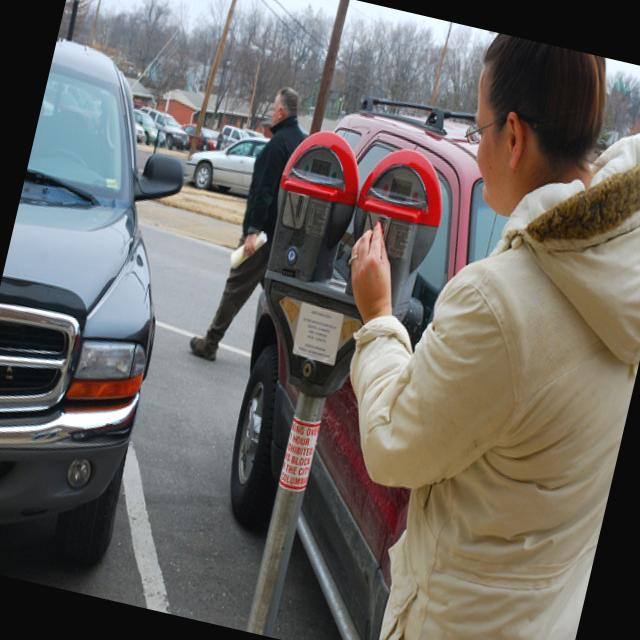Vehicle: (230, 69, 528, 475), (0, 34, 218, 584), (181, 121, 271, 201), (132, 105, 194, 153), (198, 119, 251, 154), (126, 107, 162, 146), (177, 123, 218, 154), (242, 129, 266, 139)
